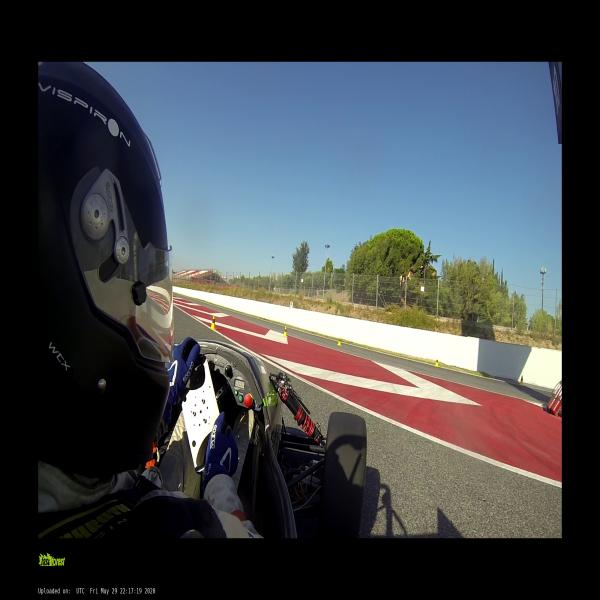yellow_cone: (210, 316, 215, 330), (283, 326, 287, 338), (337, 338, 342, 346), (435, 358, 439, 368), (520, 375, 523, 386)
